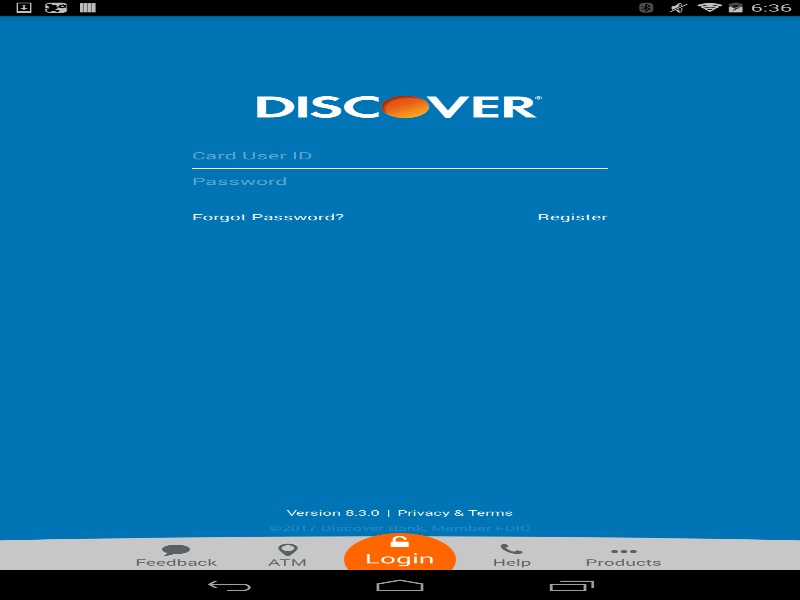Input: (192, 143, 608, 168), (192, 168, 608, 193)
